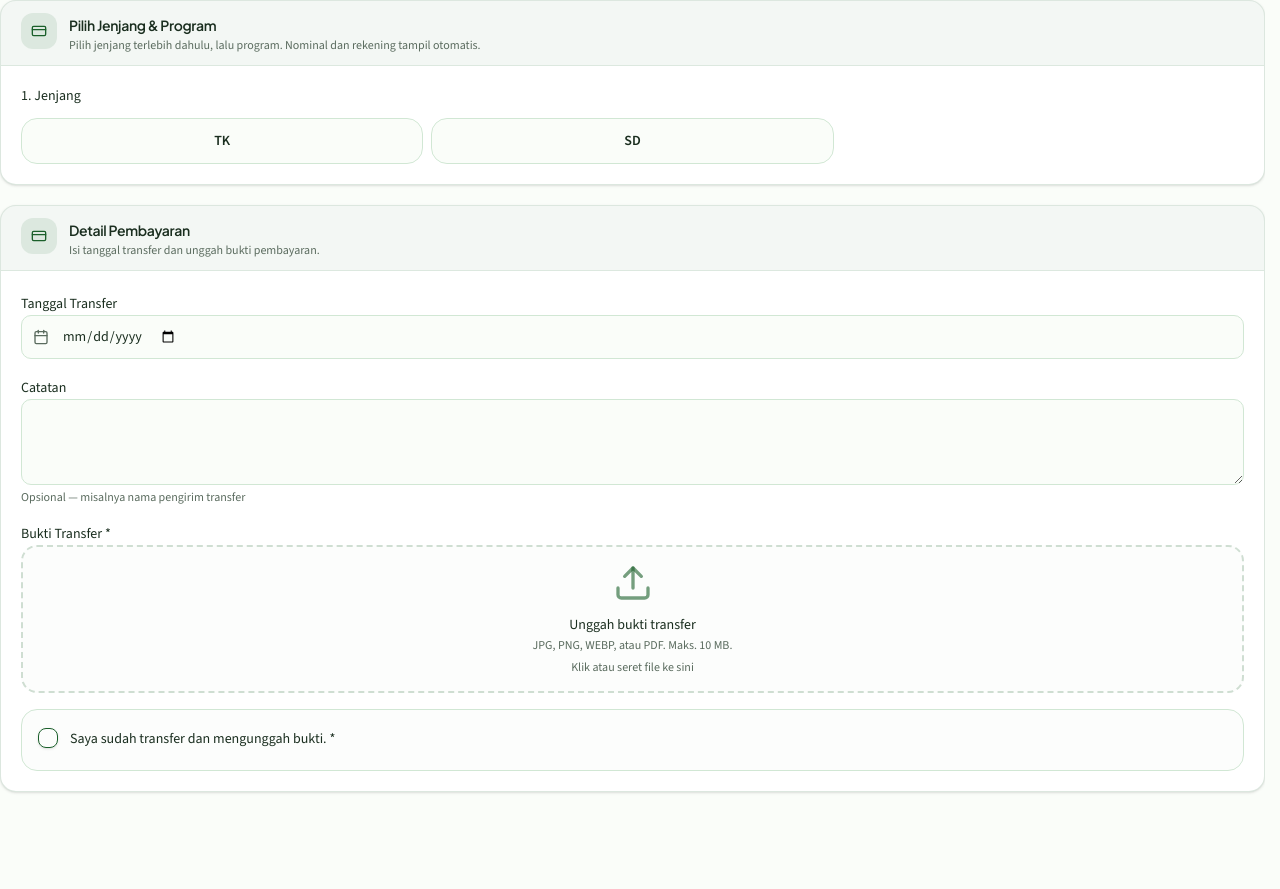
PmbWizardStepPembayaran fee selection › requires jenjang then program before showing transfer details
Check: the text "999" is not shown
Click the button "SD": (632, 141) [431, 118, 834, 164]
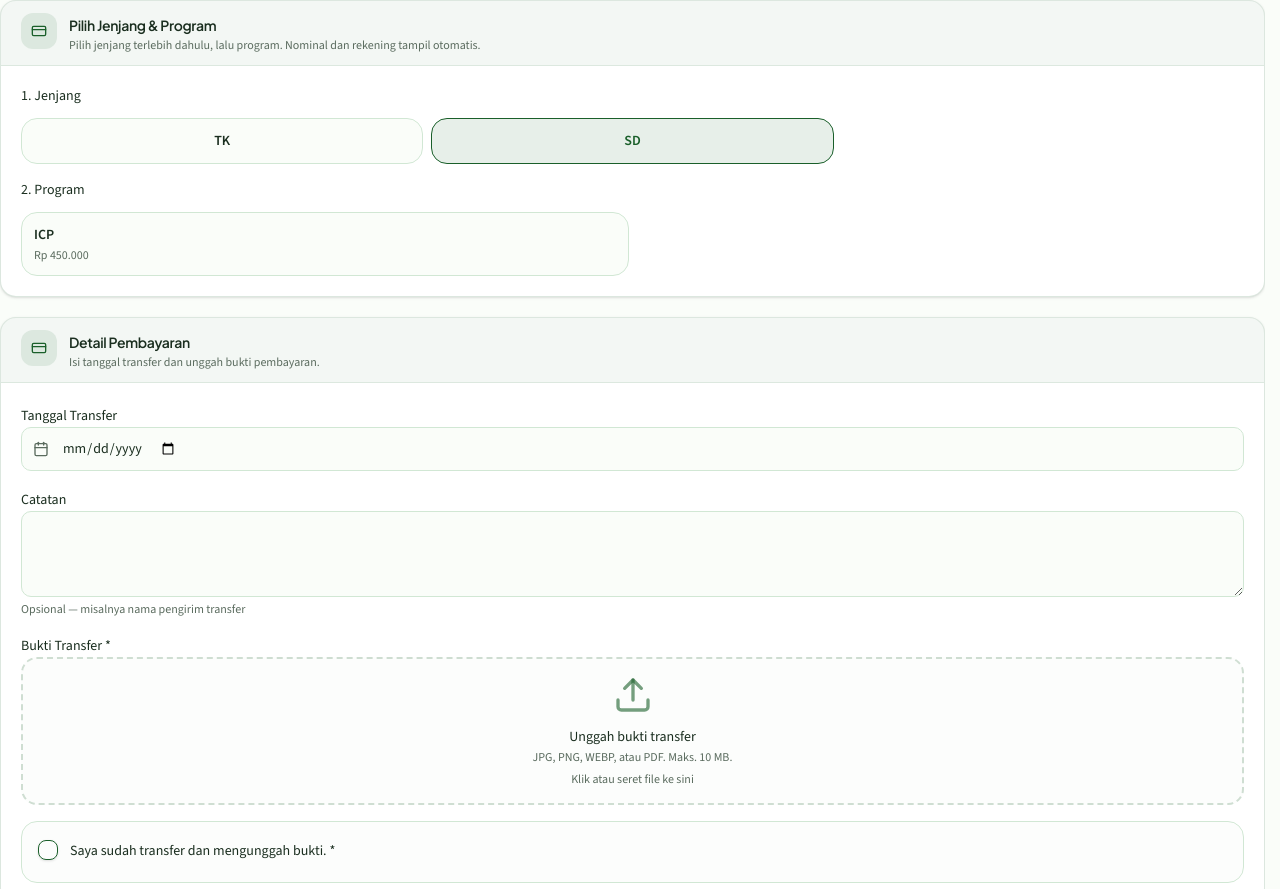
Click the button "ICP Rp 450.000": (61, 255) [21, 212, 628, 276]
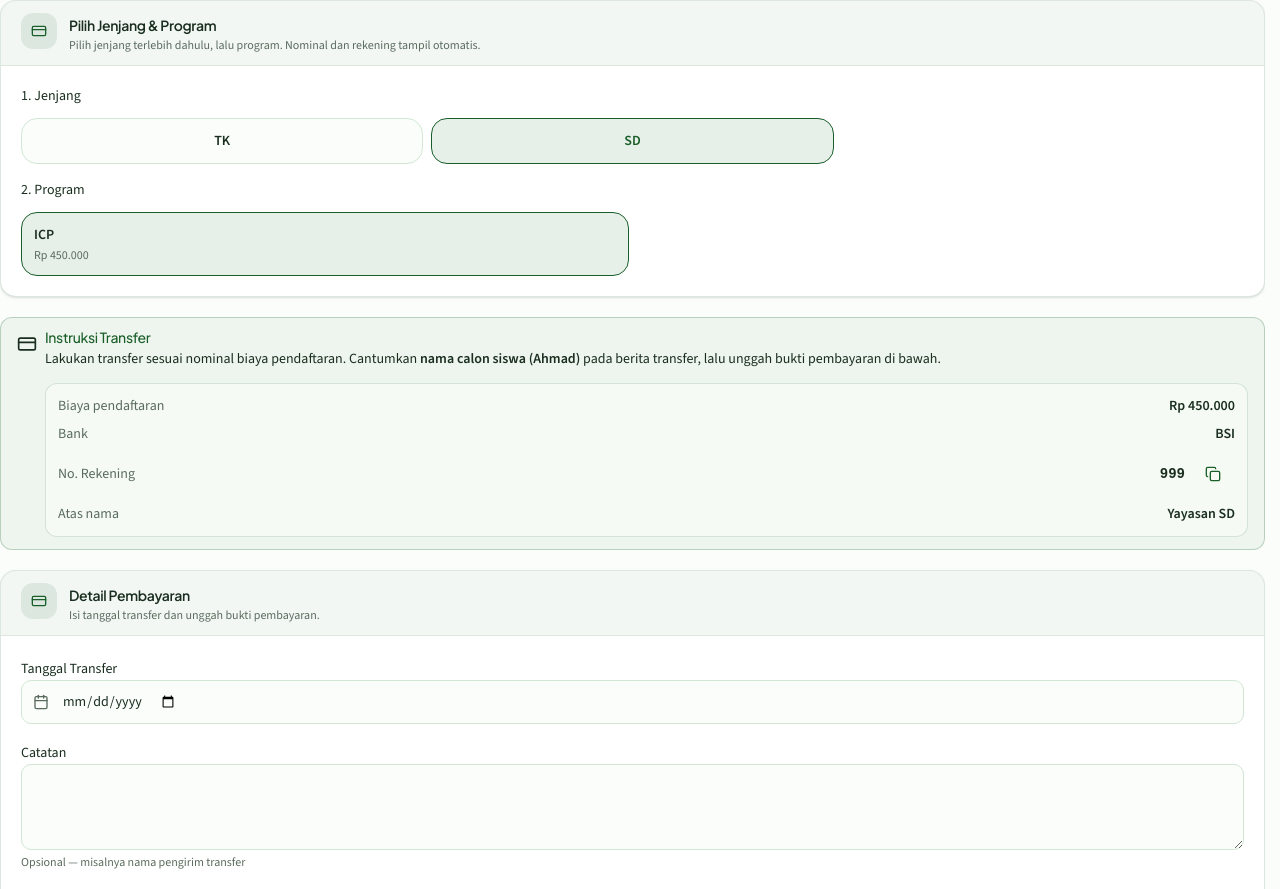
Check: the text "Rp 450.000" below "2. Program" is shown, box [34, 247, 89, 263]
Check: the text "999" is shown, box [1160, 464, 1185, 484]
Check: the text "Yayasan SD" is shown, box [1168, 504, 1235, 524]
